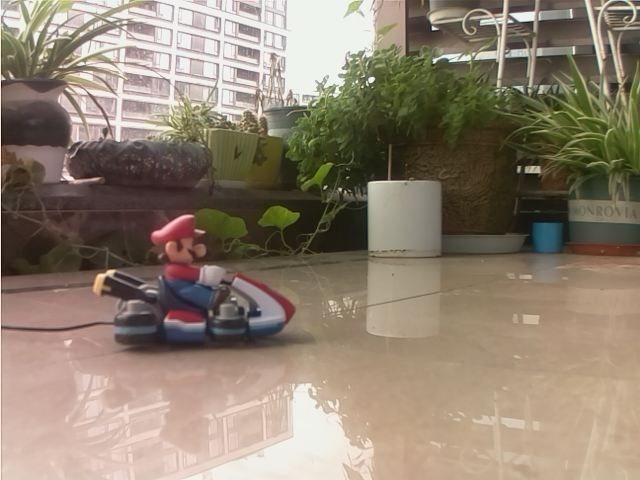mario: (81, 212, 303, 357)
